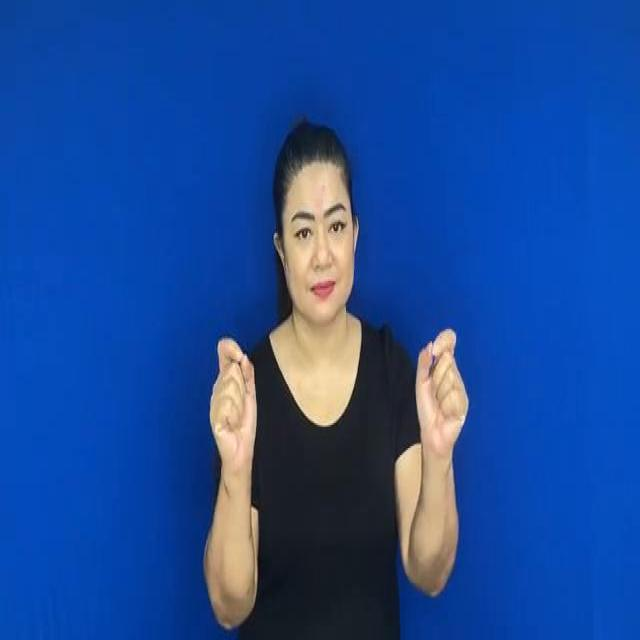crab: (403, 319, 469, 452), (208, 338, 266, 471)
